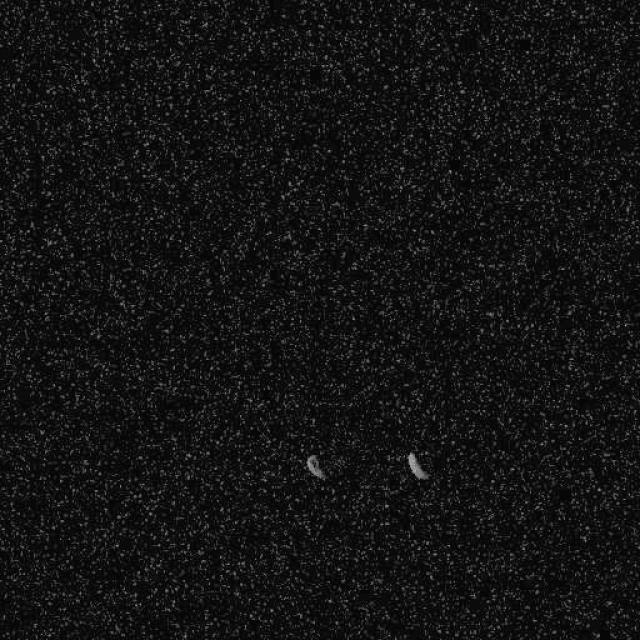D2: (405, 450, 430, 481), (305, 452, 326, 480)
